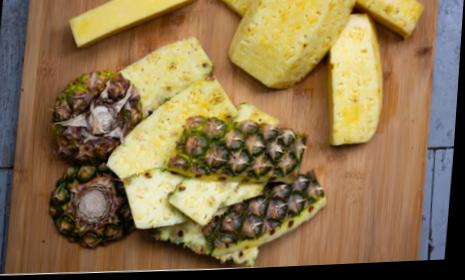organic: (106, 69, 242, 182), (225, 0, 360, 93), (199, 166, 330, 260), (161, 109, 309, 188), (47, 66, 146, 165), (319, 13, 390, 148), (43, 160, 141, 253), (113, 35, 216, 122), (65, 0, 200, 51), (351, 0, 425, 41)
